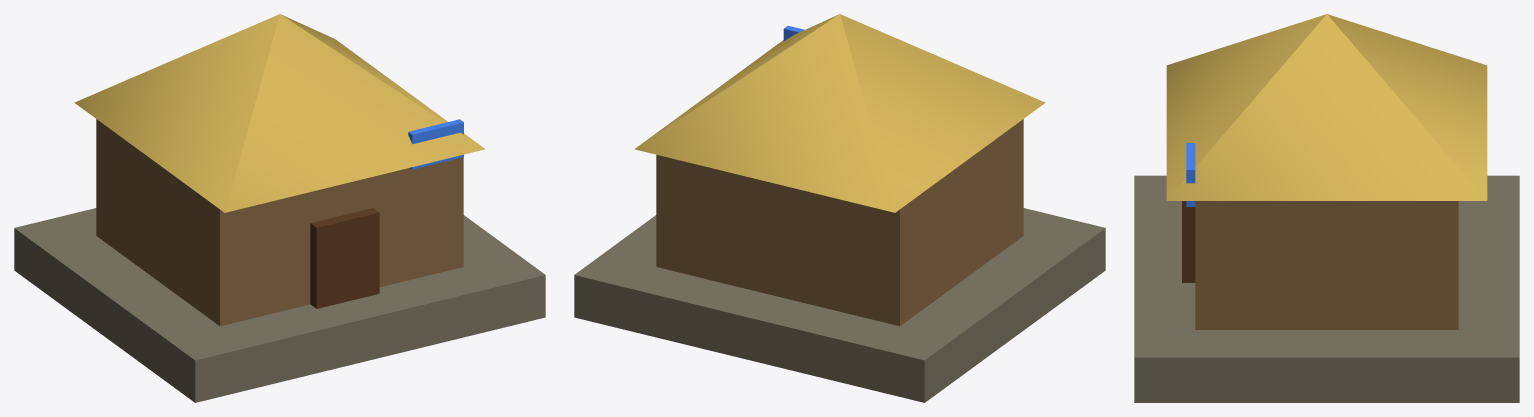
The model's file is farm.glb.
The picture shows the model from 3 angles, left to right: view 1: azimuth 30°, elevation 25°; view 2: azimuth 150°, elevation 25°; view 3: azimuth 270°, elevation 25°; orthographic projection. The views are drawn at different scales.
Parts seen in each view (by area): view 1: farm-thatched-roof, farm-footprint, farm-cottage-body, farm-door, farm-team-cloth; view 2: farm-thatched-roof, farm-footprint, farm-cottage-body; view 3: farm-thatched-roof, farm-footprint, farm-cottage-body, farm-door, farm-team-cloth.
Boxes of the visible parts, x1=… form: farm-thatched-roof: x1=74, y1=14, x2=485, y2=212; farm-footprint: x1=14, y1=208, x2=545, y2=402; farm-cottage-body: x1=96, y1=119, x2=463, y2=326; farm-door: x1=310, y1=208, x2=379, y2=308; farm-team-cloth: x1=408, y1=119, x2=463, y2=169; farm-thatched-roof: x1=634, y1=14, x2=1045, y2=212; farm-footprint: x1=574, y1=208, x2=1105, y2=402; farm-cottage-body: x1=656, y1=119, x2=1023, y2=326; farm-thatched-roof: x1=1166, y1=14, x2=1487, y2=200; farm-footprint: x1=1134, y1=175, x2=1519, y2=402; farm-cottage-body: x1=1195, y1=201, x2=1458, y2=329; farm-door: x1=1182, y1=201, x2=1195, y2=282; farm-team-cloth: x1=1186, y1=143, x2=1195, y2=206.
Bounding box in the file's own units: 1.9 × 1.45 × 1.7.
